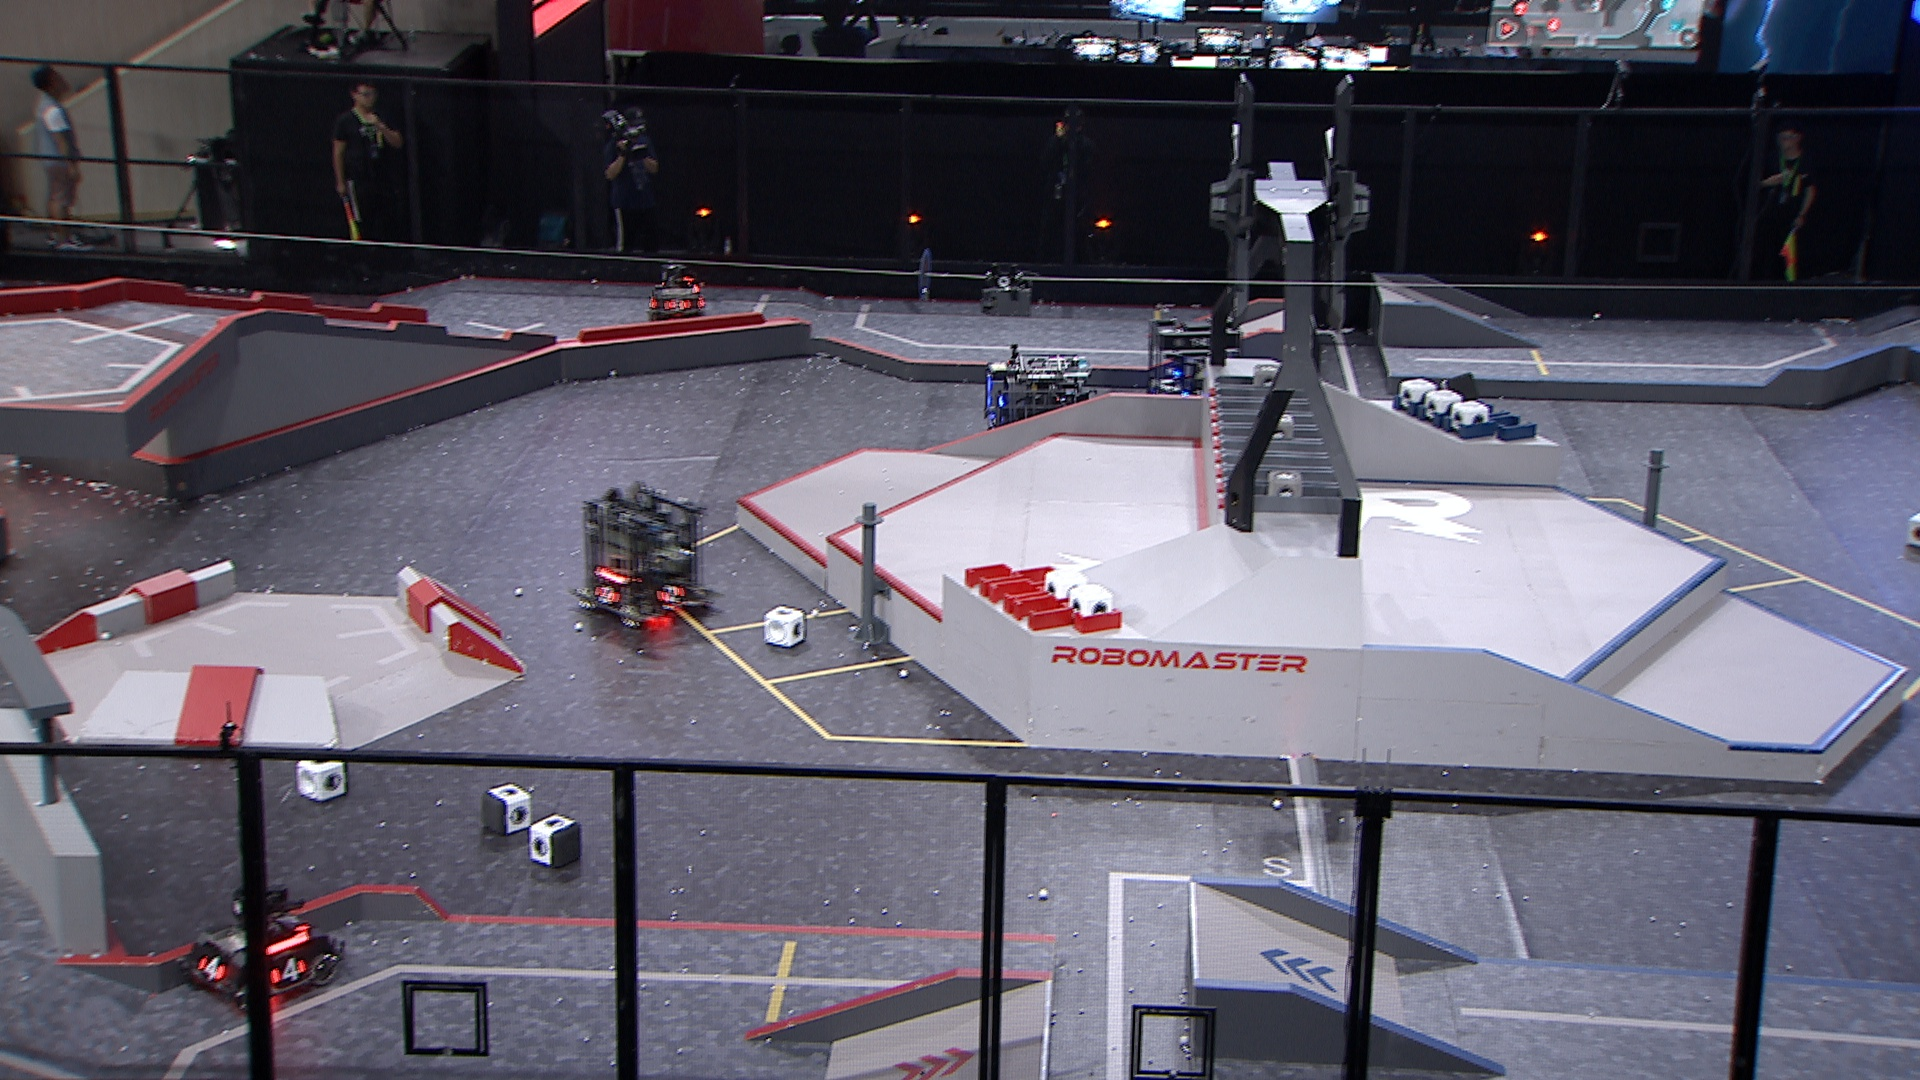armor: (268, 957, 309, 986), (196, 949, 229, 982), (591, 583, 622, 607), (657, 583, 684, 605), (665, 295, 692, 315)
car: (567, 484, 723, 632), (185, 880, 345, 1010), (984, 343, 1100, 451), (1145, 314, 1247, 419), (644, 262, 709, 324)
